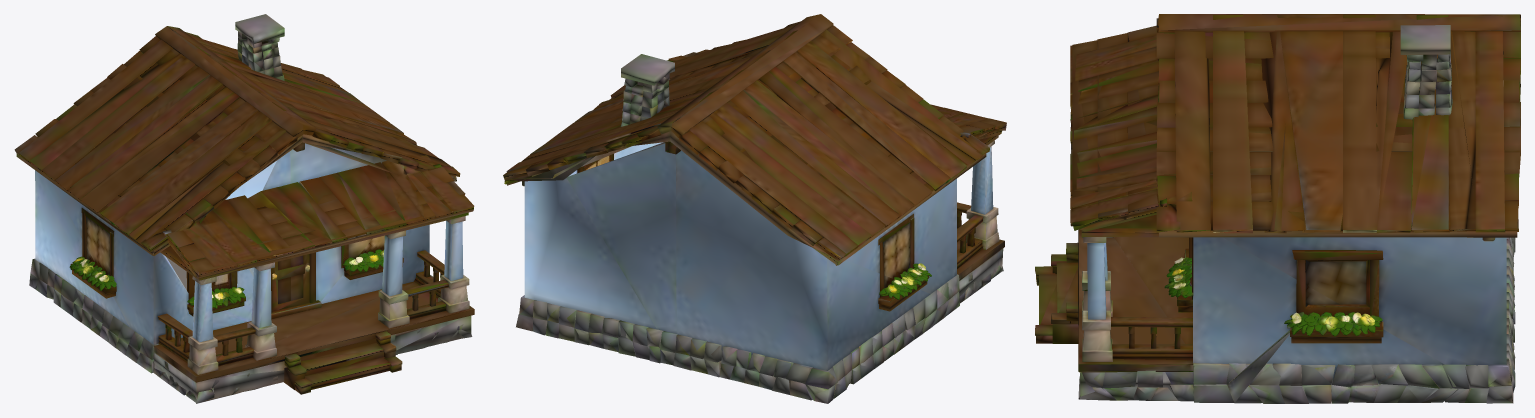
File: house_blue_bungalow.glb
3 views of the same model, side by side, from view 1: azimuth 30°, elevation 25°; view 2: azimuth 150°, elevation 25°; view 3: azimuth 270°, elevation 25° (orthographic). The views are drawn at different scales.
Visible parts, largest first — view 1: geometry_0; view 2: geometry_0; view 3: geometry_0.
Part boxes in pixels (x1=…): geometry_0: x1=14, y1=14, x2=474, y2=403; geometry_0: x1=503, y1=14, x2=1006, y2=403; geometry_0: x1=1035, y1=14, x2=1520, y2=403.
Size of the model in its own units: 0.9492 by 0.6777 by 0.9512.
Materials: 1 (1 with a texture image).
